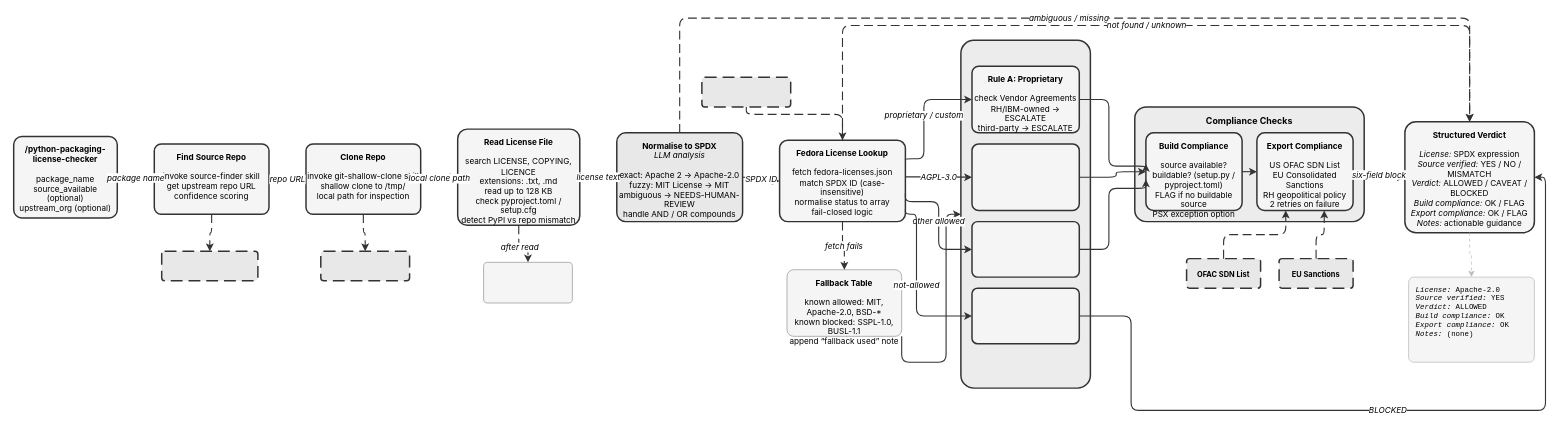
Image size: 1564x430. Some labels were removed from this diagram. Here are the shapes that lost their labels. From the top down, the box of each, then its label:
(701, 76, 791, 107): Fedora License Data
(971, 143, 1080, 211): Rule B: AGPL-3.0 ALLOWED-WITH-CAVEAT dual-licensing risk PM sign-off required
(960, 39, 1091, 388): Verdict Refinement
(161, 250, 258, 281): python-packaging-source-finder
(320, 250, 410, 281): git-shallow-clone
(971, 221, 1080, 278): Rule C: Other Allowed ALLOWED no special caveats
(483, 262, 572, 303): Cleanup Clone verify path under /tmp/ rm -rf clone dir
(971, 287, 1080, 344): Rule D: Not-Allowed BLOCKED on Fedora not-allowed list
